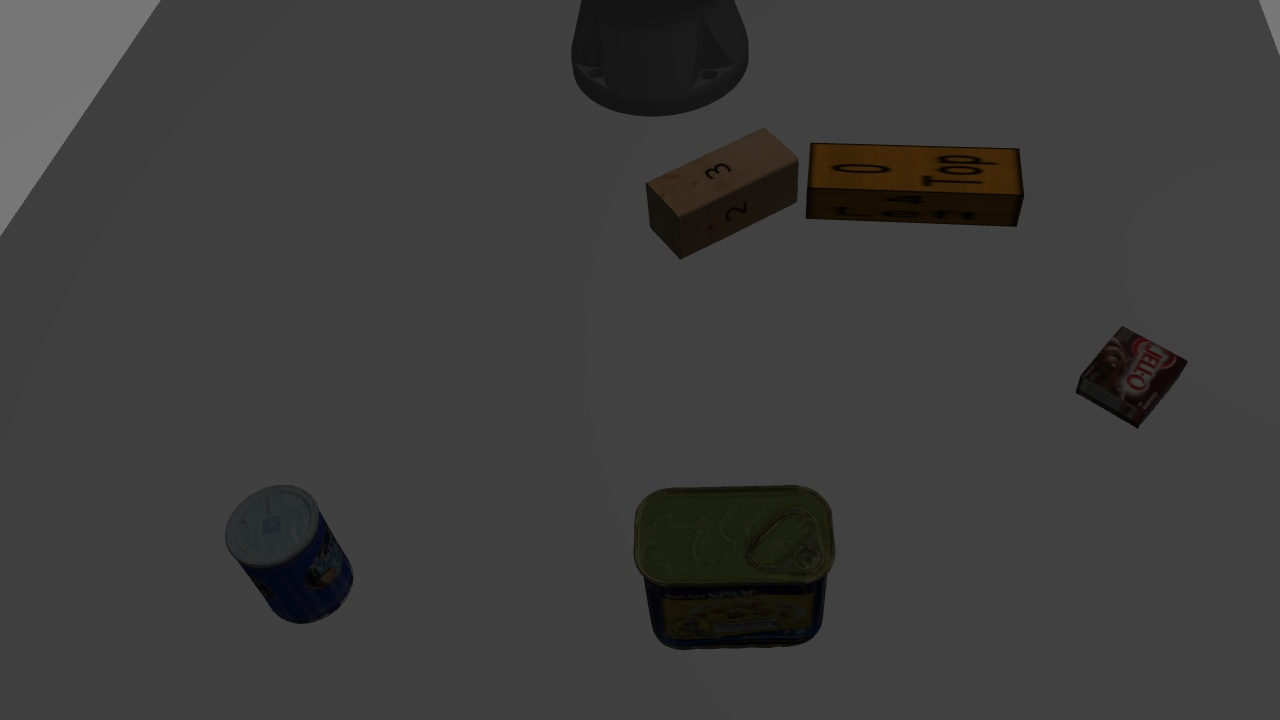jenga: (804, 137, 1028, 241)
master_chef_can: (222, 481, 358, 628)
potted_meat_can: (629, 479, 831, 651)
pudding_box: (1073, 321, 1191, 433)
wood_block: (806, 133, 1027, 232), (643, 126, 799, 258)
